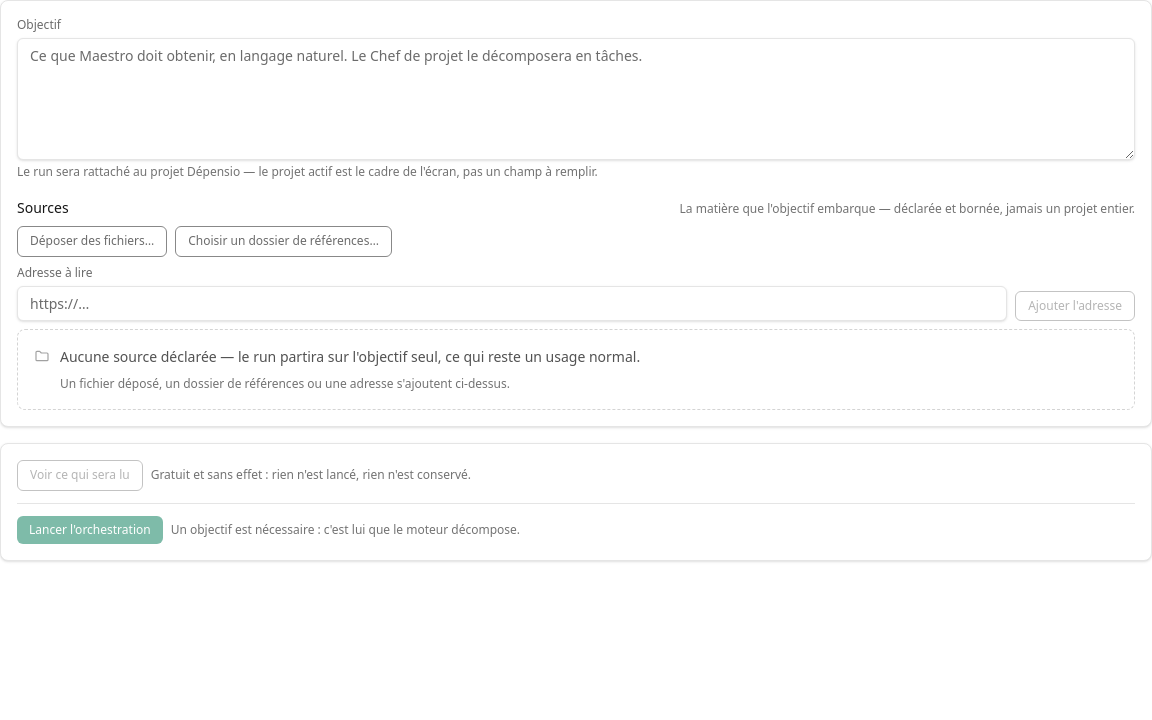
Test: ce que l'écran refuse de proposer (#319) › n'offre pas de lancement tant que l'objectif est vide, et le dit
The width and height of the screenshot is (1152, 720).
Expected: the button "Lancer l'orchestration" is disabled, [17,516,163,544]
Expected: the text "Un objectif est nécessaire" is shown, [171,520,520,538]
Type "Refondre l'écran" into the text box labelled "Objectif". click: coordinates (576, 99)
box: [17,38,1135,160]
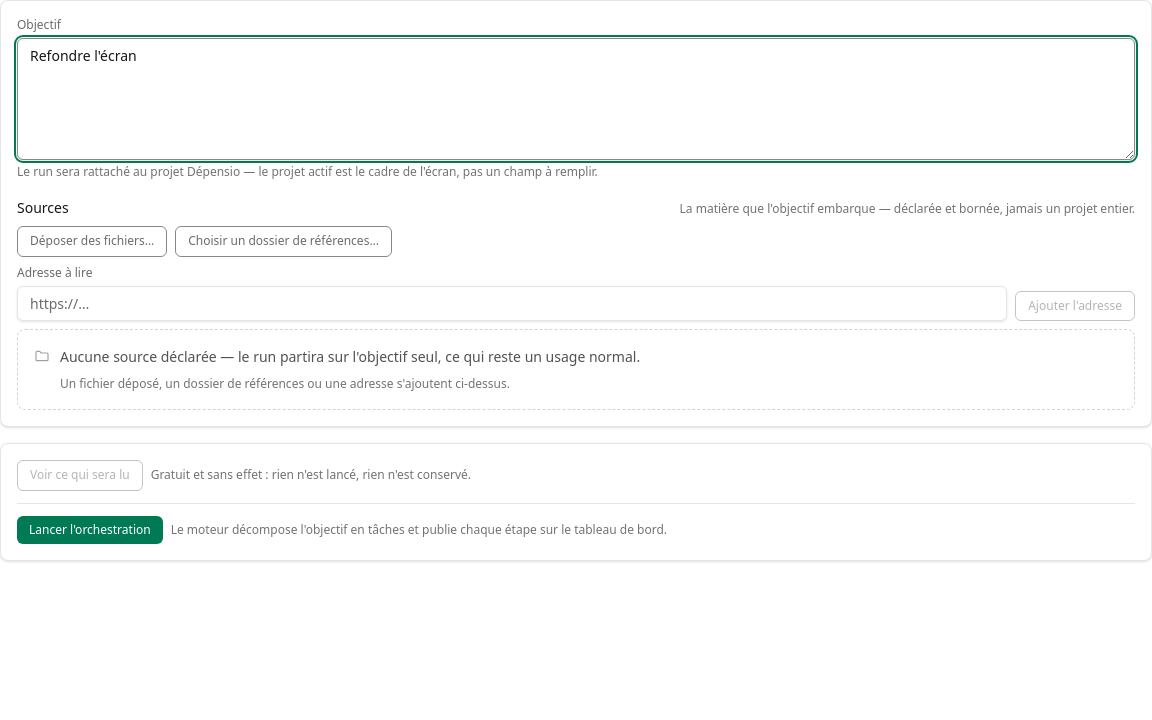
Now the button "Lancer l'orchestration" is enabled, box [17,516,163,544]
